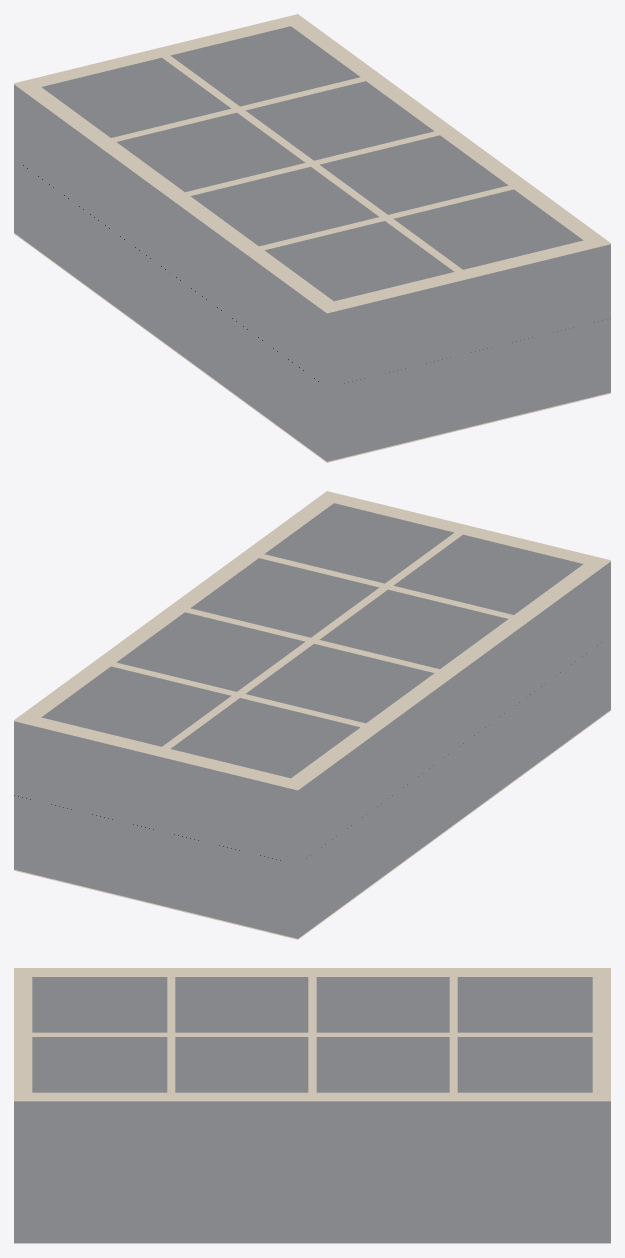
File: shelf.glb
The picture shows the model from 3 angles, top to bottom: view 1: azimuth 30°, elevation 25°; view 2: azimuth 150°, elevation 25°; view 3: azimuth 270°, elevation 25°; orthographic projection. The views are drawn at different scales.
Parts seen in each view (by area): view 1: imagetostl_mesh6, imagetostl_mesh1, imagetostl_mesh5, imagetostl_mesh0, imagetostl_mesh2, imagetostl_mesh4; view 2: imagetostl_mesh6, imagetostl_mesh1, imagetostl_mesh5, imagetostl_mesh0, imagetostl_mesh2, imagetostl_mesh4; view 3: imagetostl_mesh6, imagetostl_mesh0, imagetostl_mesh5, imagetostl_mesh2, imagetostl_mesh4.
Part boxes in pixels (x1,y1,x2,y2): imagetostl_mesh6: [14, 26, 610, 461]; imagetostl_mesh1: [117, 81, 513, 301]; imagetostl_mesh5: [14, 14, 610, 313]; imagetostl_mesh0: [162, 58, 454, 288]; imagetostl_mesh2: [111, 55, 513, 271]; imagetostl_mesh4: [14, 233, 610, 462]; imagetostl_mesh6: [14, 503, 610, 938]; imagetostl_mesh1: [111, 558, 507, 778]; imagetostl_mesh5: [14, 491, 610, 790]; imagetostl_mesh0: [170, 535, 462, 765]; imagetostl_mesh2: [111, 532, 513, 748]; imagetostl_mesh4: [14, 710, 610, 939]; imagetostl_mesh6: [14, 977, 610, 1242]; imagetostl_mesh0: [32, 1037, 592, 1092]; imagetostl_mesh5: [14, 968, 610, 1101]; imagetostl_mesh2: [32, 976, 592, 1092]; imagetostl_mesh4: [14, 1243, 610, 1243].
Size of the model in its own units: 770 by 390 by 1470.
